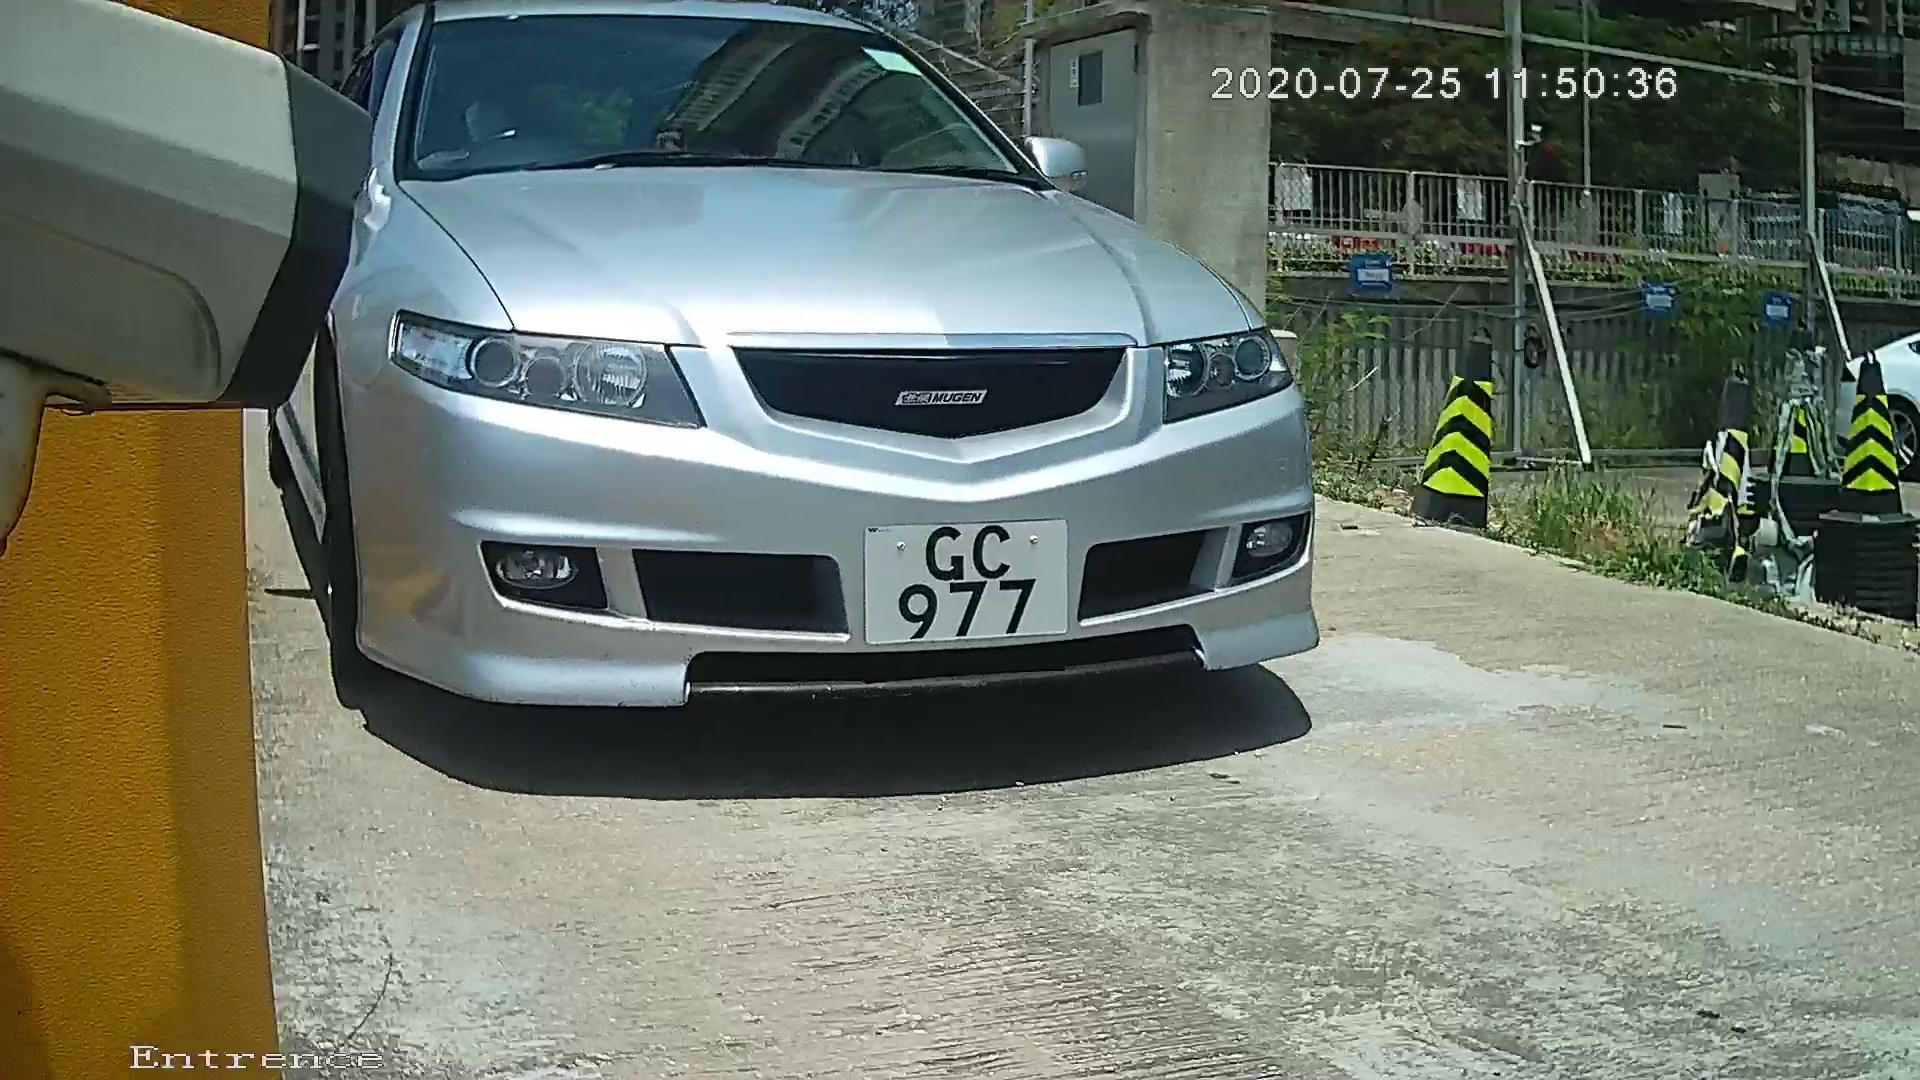License Plate: (823, 507, 1115, 666)
